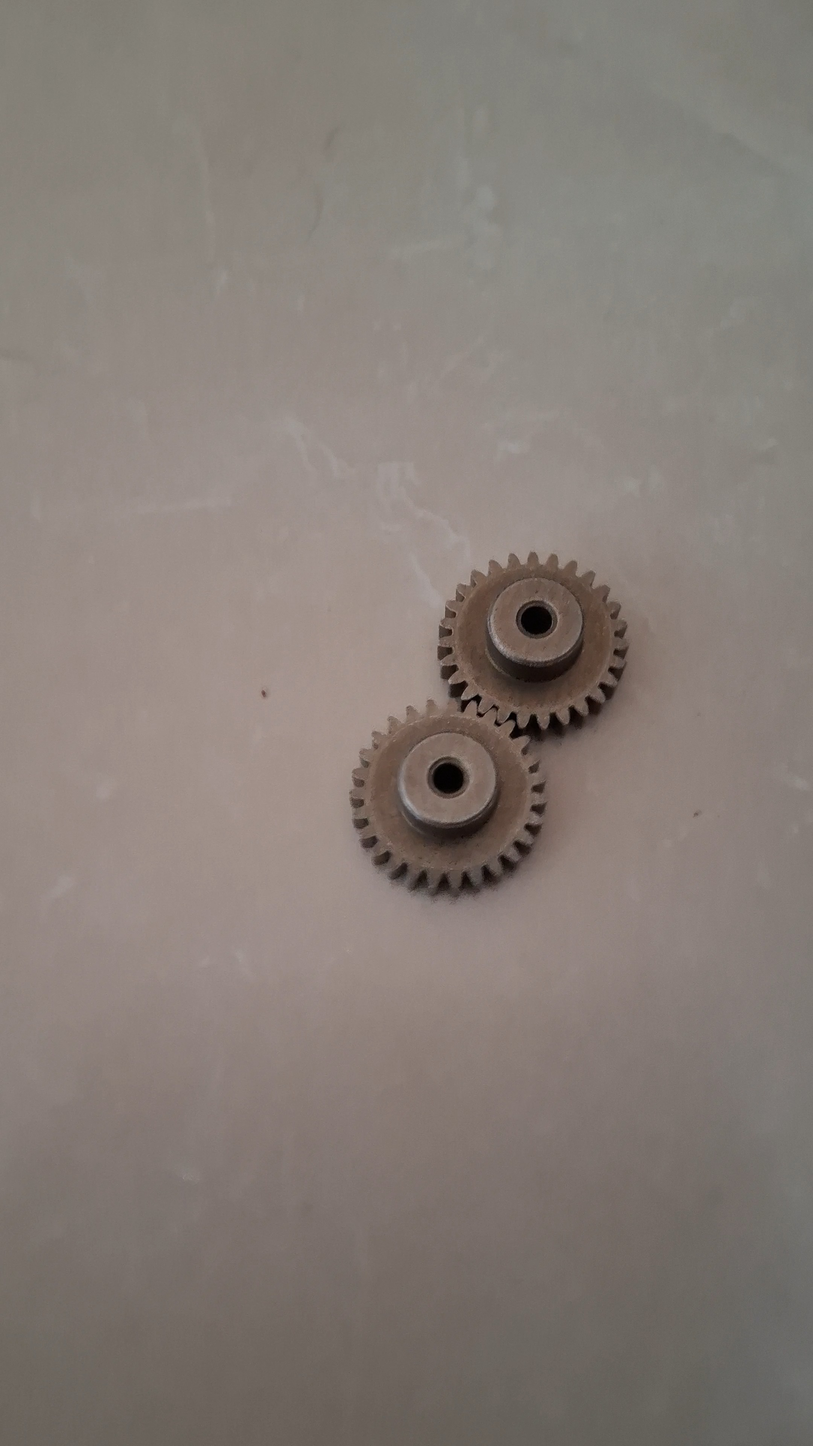spur gear: (344, 689, 535, 874), (422, 542, 606, 712)
